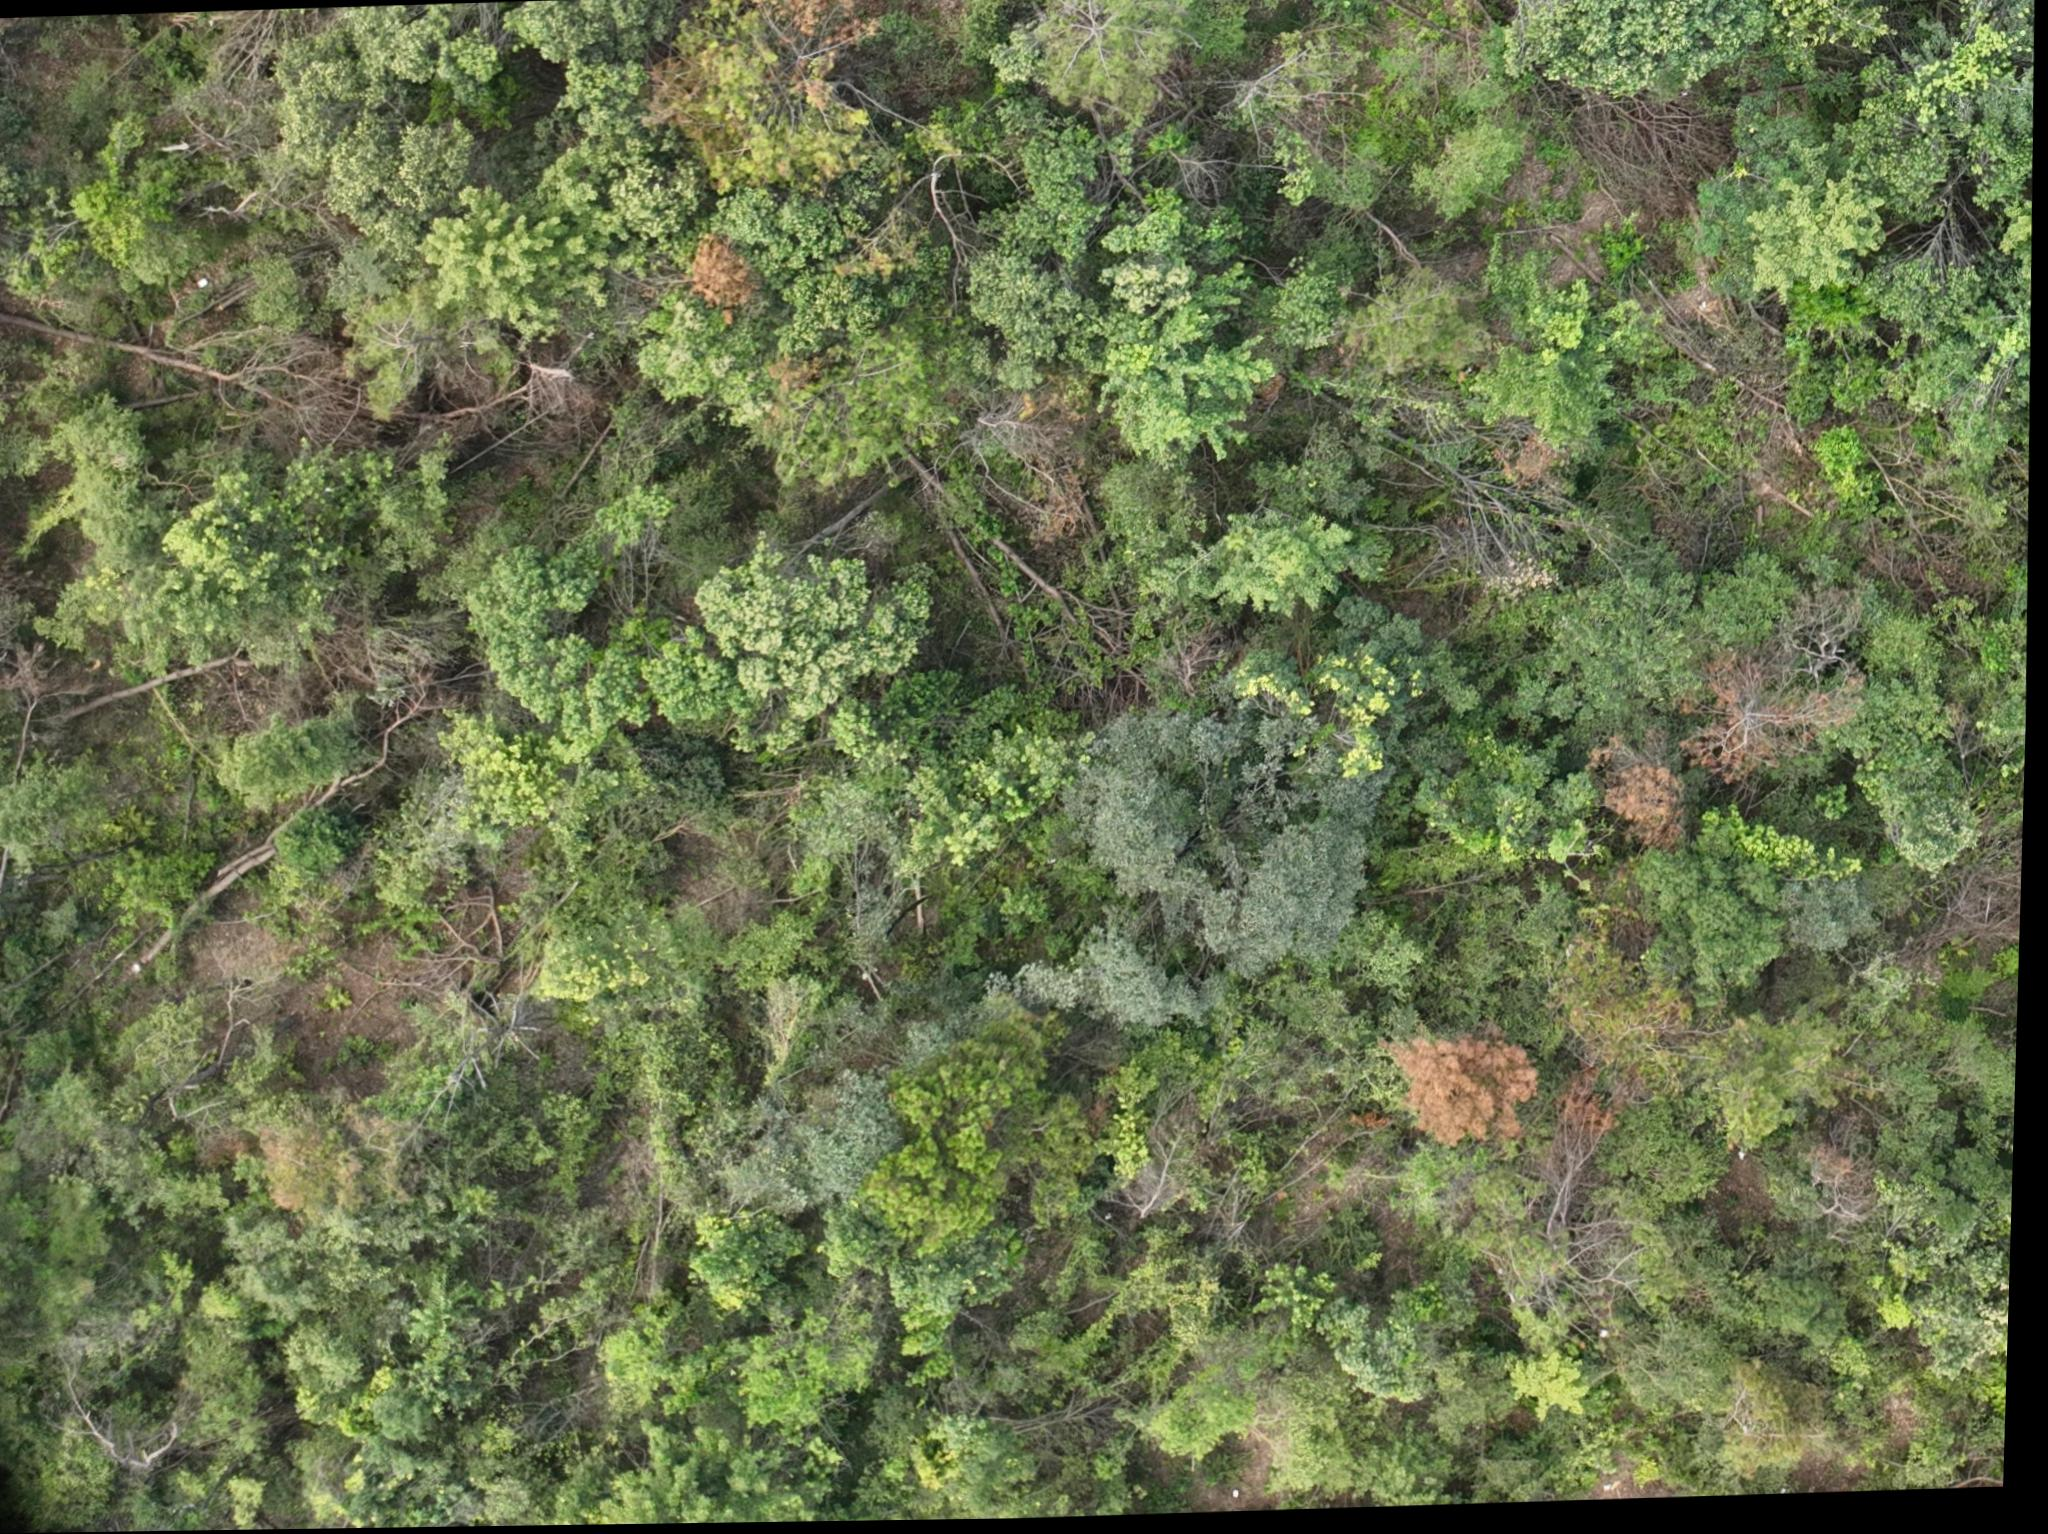dead: (1689, 624, 1874, 793), (1391, 450, 1563, 599), (959, 390, 1089, 488)
heavy: (1397, 1025, 1542, 1150), (1581, 756, 1697, 860), (685, 245, 749, 314)
light: (636, 6, 881, 197), (261, 1097, 421, 1220)
